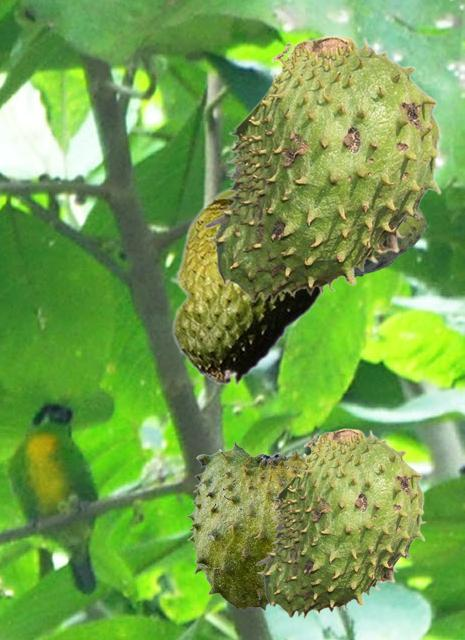guyabano: (203, 35, 442, 303), (255, 428, 425, 618), (169, 186, 326, 387), (186, 440, 308, 610), (356, 208, 426, 277)
